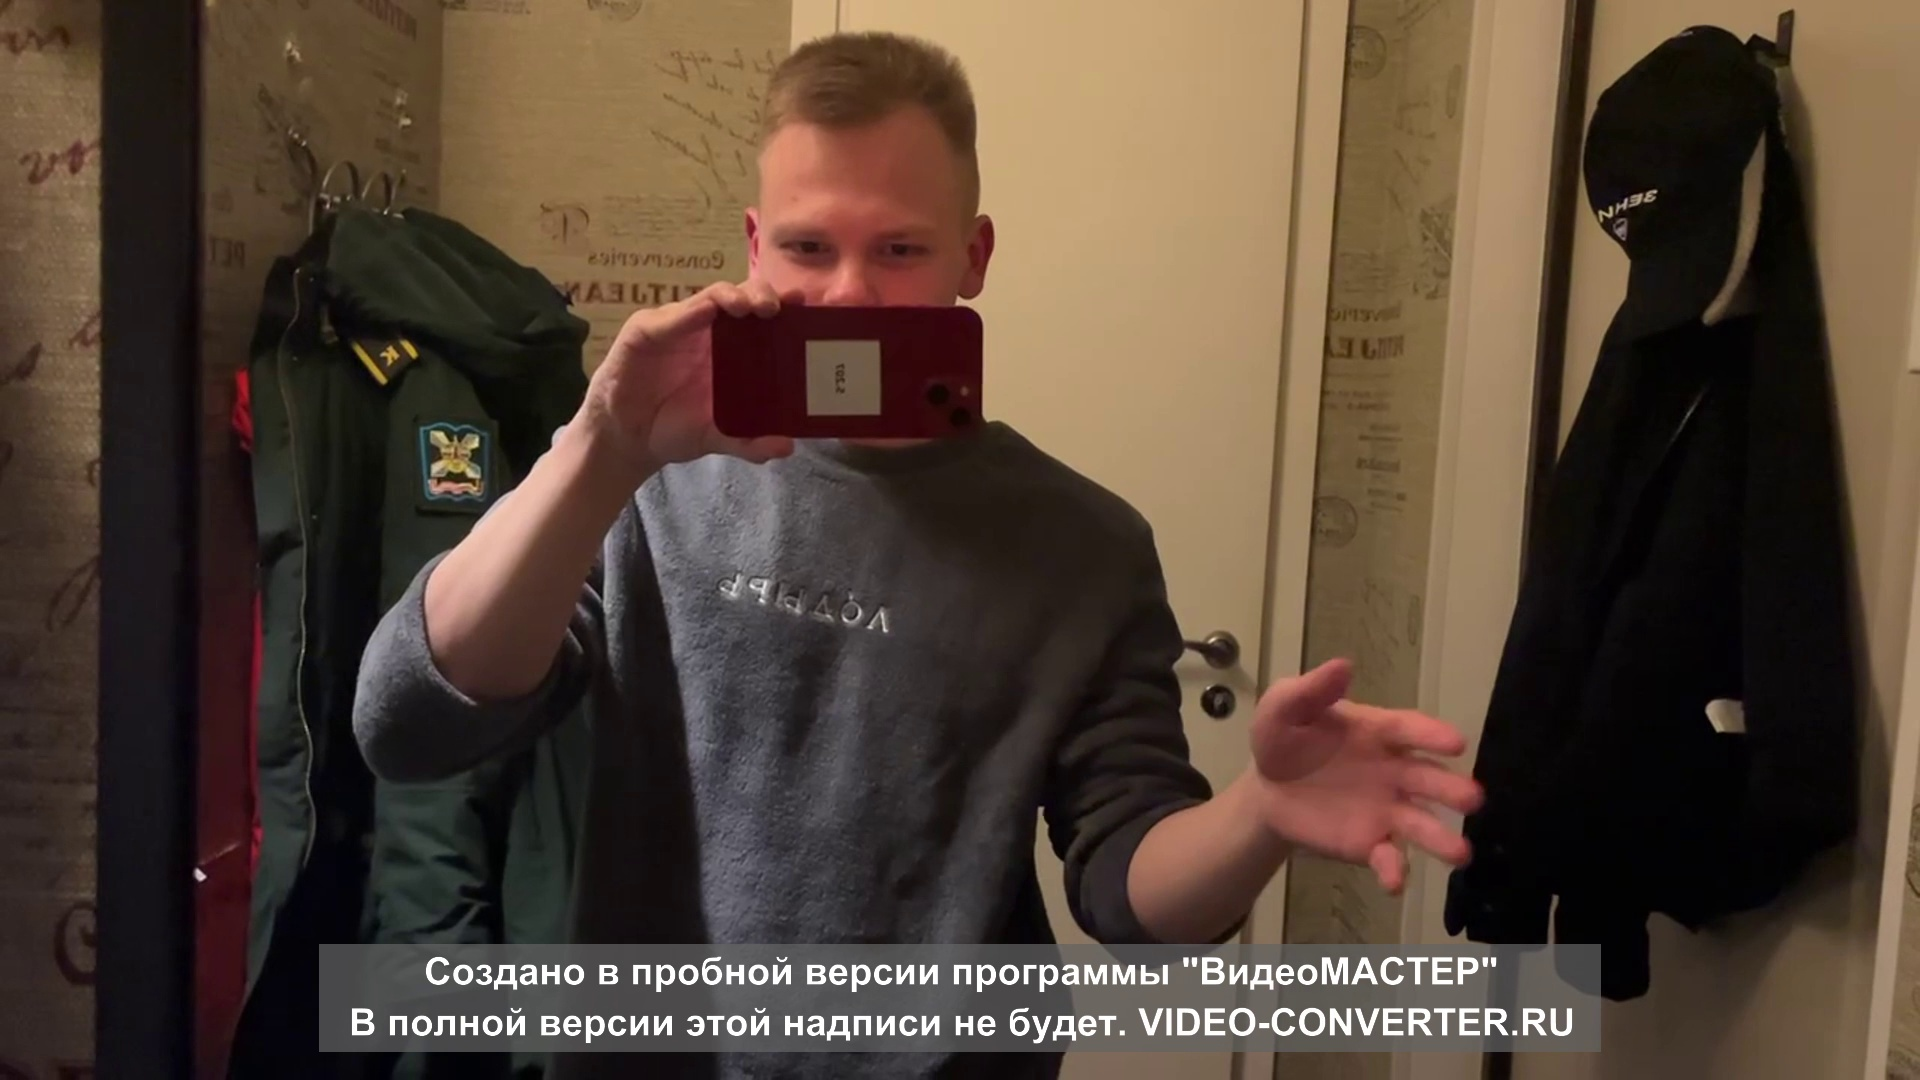Ладонь: (1255, 655, 1482, 893)
